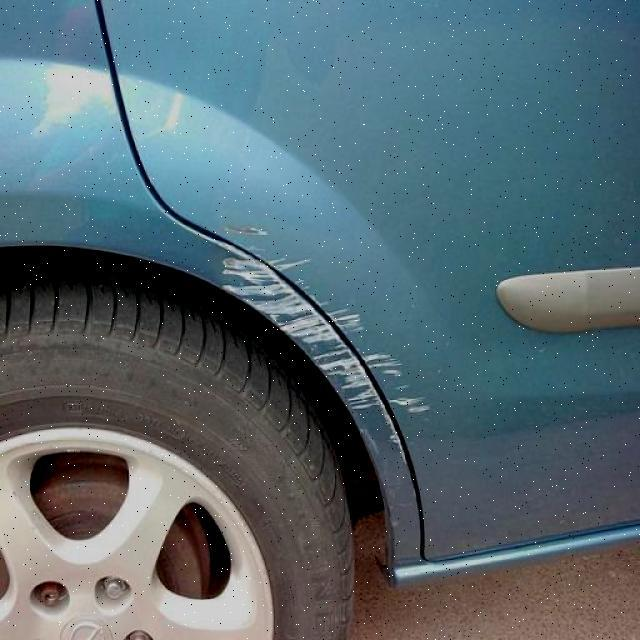car damage: (223, 216, 431, 450)
